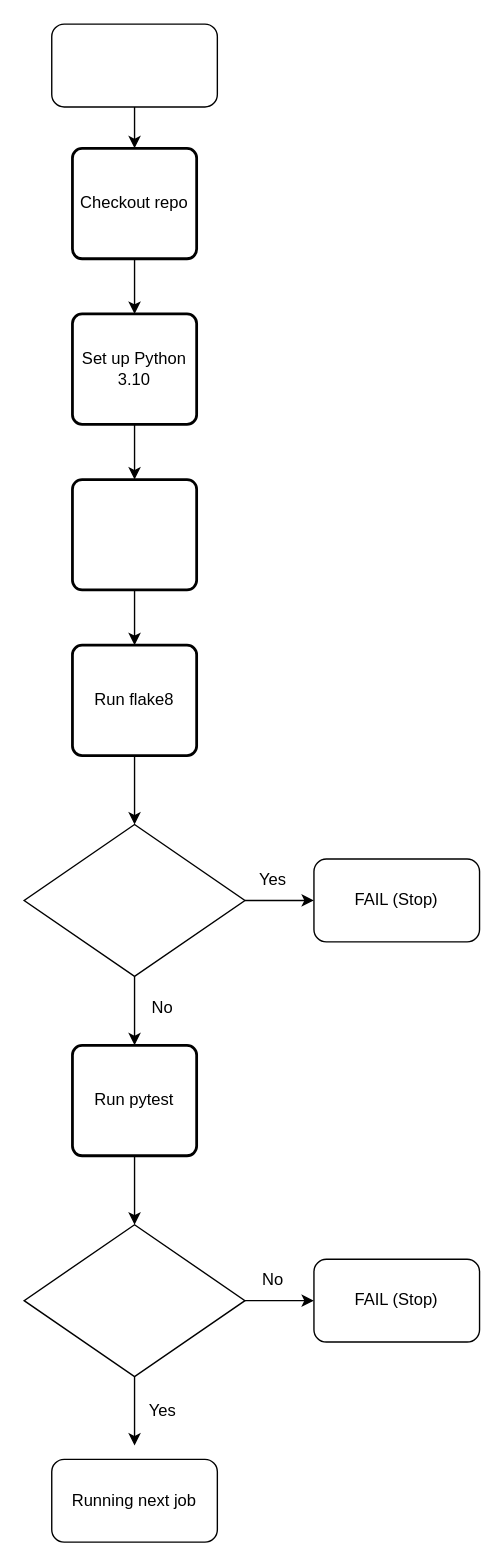
The diagram is 504 pixels wide and 1566 high, and some of its shapes have lost their labels. Each missing label, with the centre of its shape:
"All tests pass?" goes at (x=134, y=1300).
"Are there syntax errors?" goes at (x=134, y=899).
"Install pip + requirements" goes at (x=133, y=534).
"Workflow triggered (push request -> main)" goes at (x=133, y=65).
